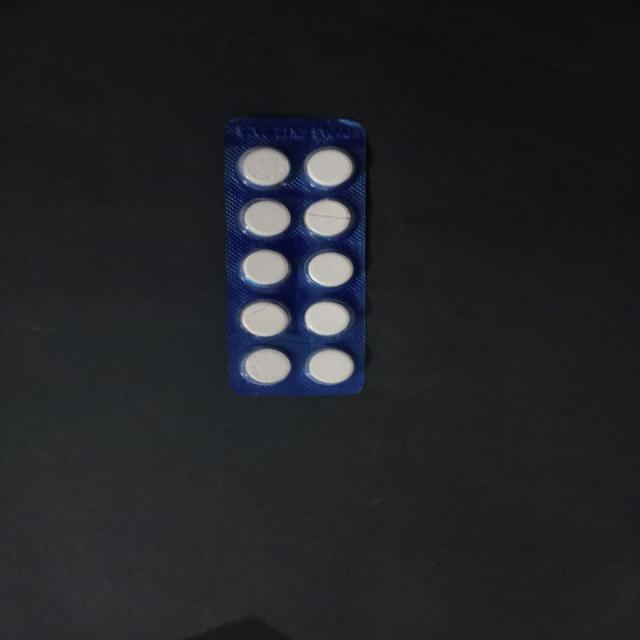defect: (300, 196, 361, 241), (236, 298, 294, 339)
